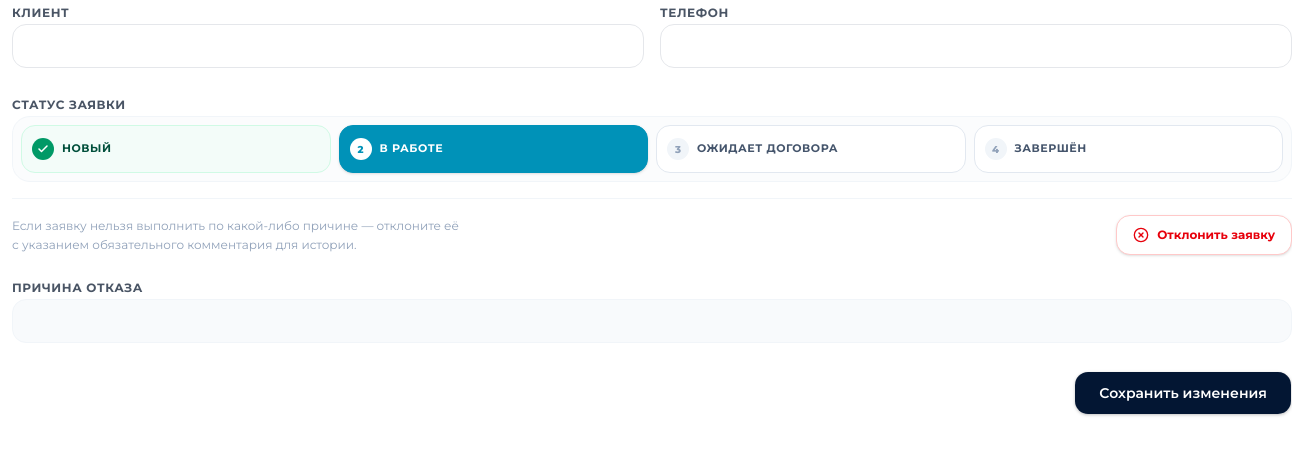
Test: OrderManageForm › требует имя и телефон
Click the button "Сохранить изменения": x=1183, y=393 [1074,371,1292,415]
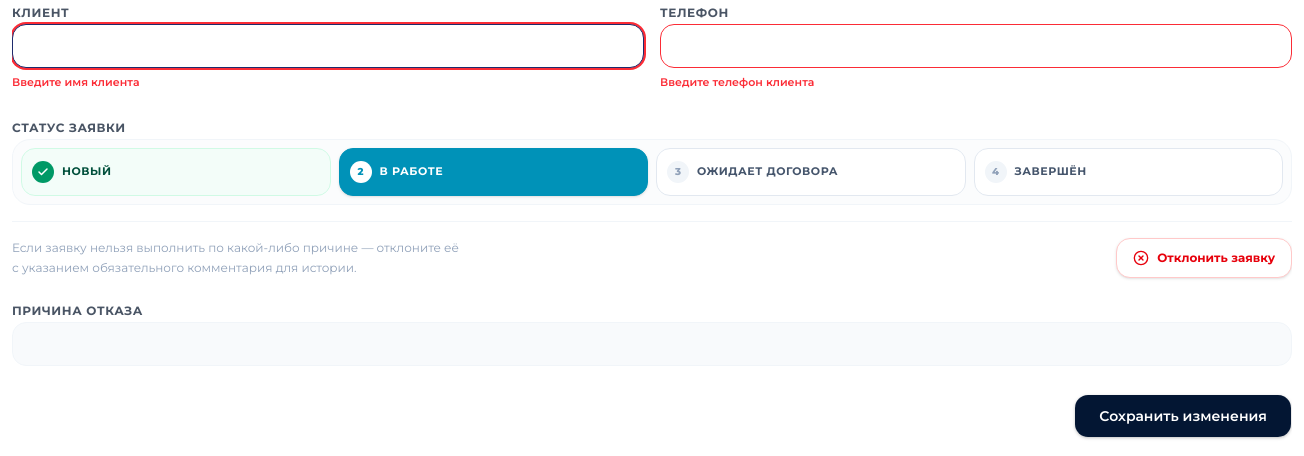
Check: the text "Введите имя клиента" is shown, box [12,75,140,89]
Check: the text "Введите телефон клиента" is shown, box [660,75,814,89]
